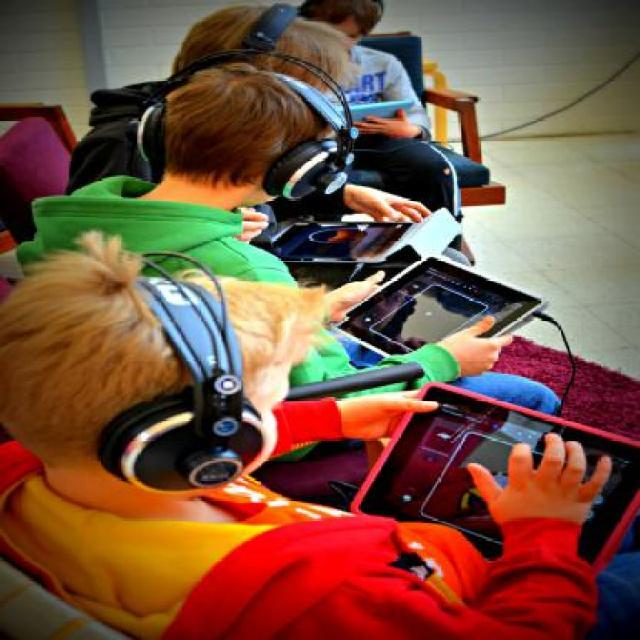earphone: (115, 247, 268, 528), (115, 75, 348, 188)
tablet: (395, 373, 632, 585), (337, 258, 550, 368), (277, 212, 443, 268), (355, 93, 418, 142)
